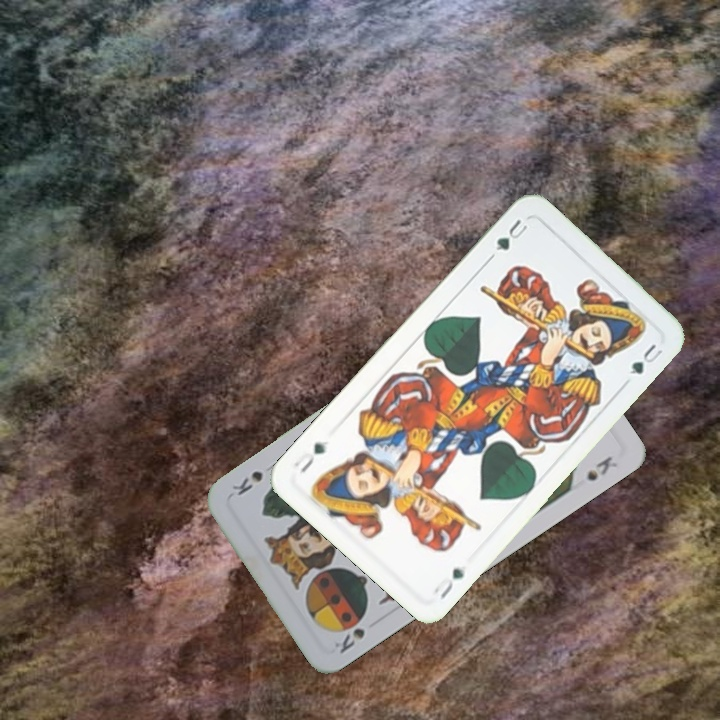GU: (491, 215, 531, 254), (429, 564, 468, 602)
SK: (330, 623, 368, 657)
